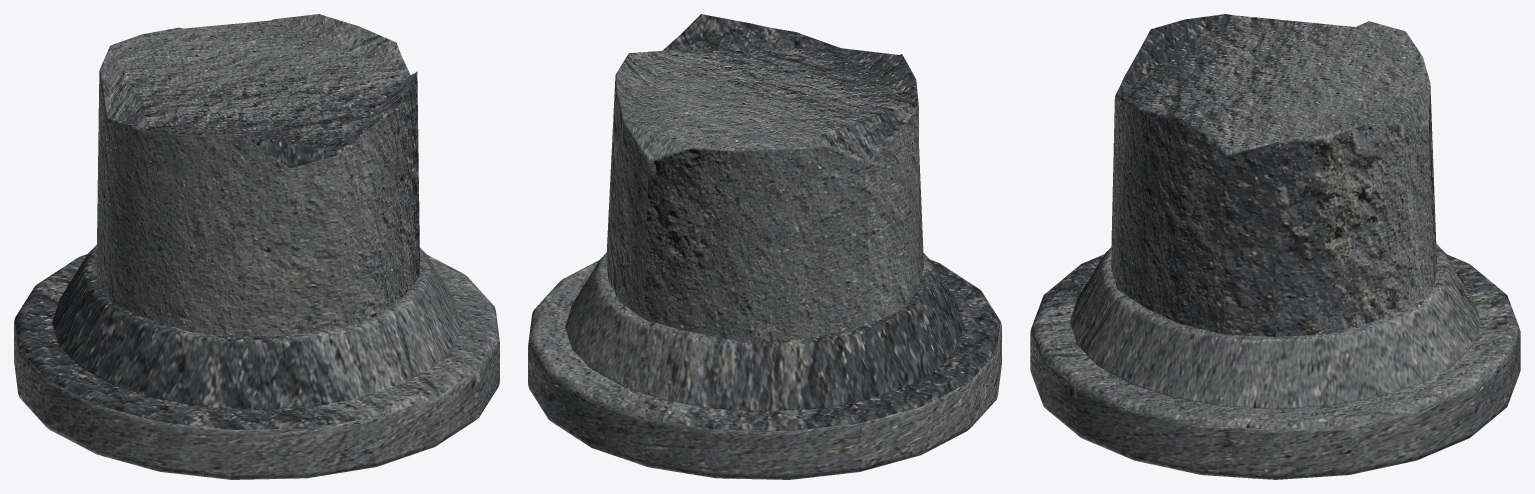
The model's file is column-base-v02.glb.
3 views of the same model, side by side, from view 1: azimuth 30°, elevation 25°; view 2: azimuth 150°, elevation 25°; view 3: azimuth 270°, elevation 25° (orthographic). The views are drawn at different scales.
Visible parts, largest first — view 1: Trecho quebrado da coluna, Plinto circular de pedra, Transição inclinada do plinto; view 2: Trecho quebrado da coluna, Plinto circular de pedra, Transição inclinada do plinto; view 3: Trecho quebrado da coluna, Plinto circular de pedra, Transição inclinada do plinto.
Boxes of the visible parts, x1=… form: Trecho quebrado da coluna: x1=96, y1=14, x2=420, y2=338; Plinto circular de pedra: x1=14, y1=254, x2=499, y2=479; Transição inclinada do plinto: x1=52, y1=245, x2=461, y2=409; Trecho quebrado da coluna: x1=606, y1=14, x2=923, y2=341; Plinto circular de pedra: x1=528, y1=260, x2=1001, y2=479; Transição inclinada do plinto: x1=565, y1=253, x2=964, y2=411; Trecho quebrado da coluna: x1=1111, y1=14, x2=1436, y2=336; Plinto circular de pedra: x1=1030, y1=254, x2=1520, y2=479; Transição inclinada do plinto: x1=1070, y1=244, x2=1480, y2=409.
Bounding box in the file's own units: 1.7 × 1.21 × 1.7.
Materials: 1 (1 with a texture image).
